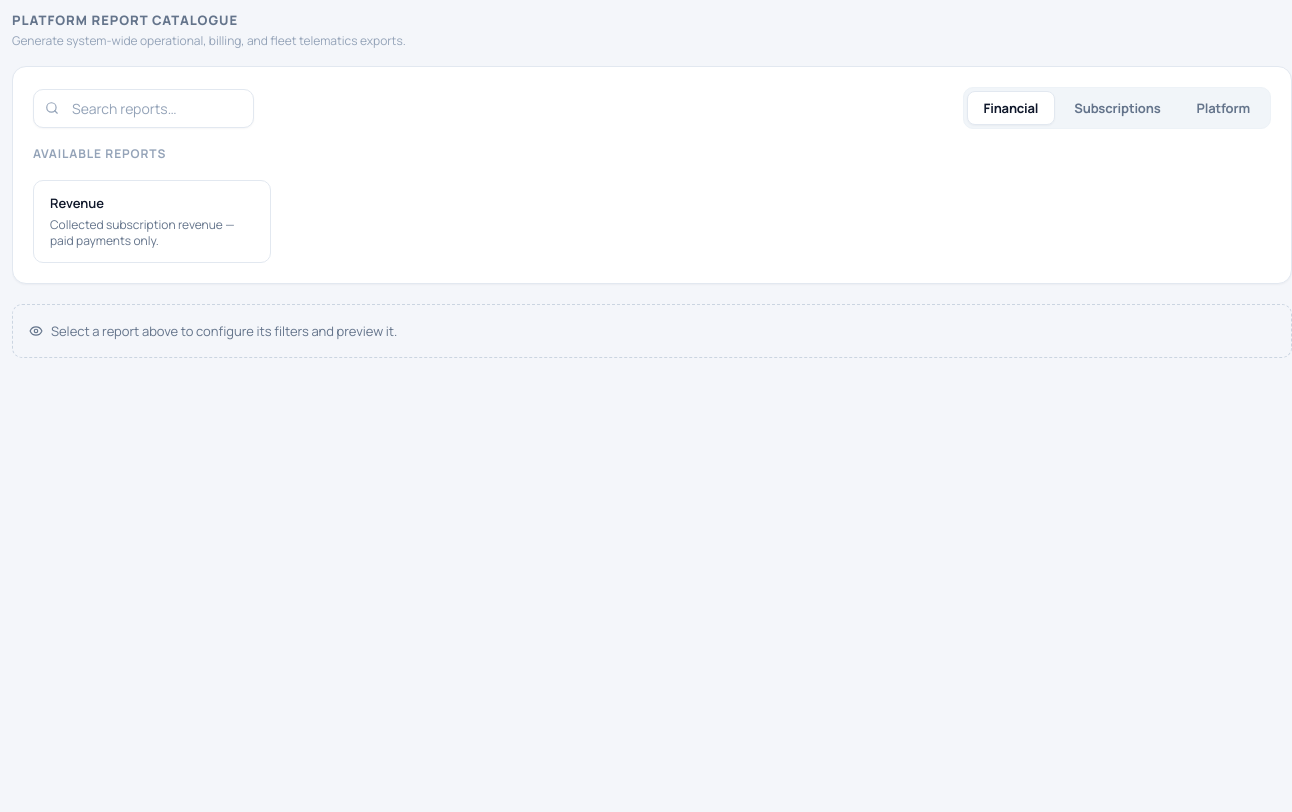
Test: ReportsPage — Platform Report Center › shows no filters until a report is selected
Expected: the field labelled "Date range" is not shown
Click the text "Revenue" at (77, 203), box [50,193,104,213]
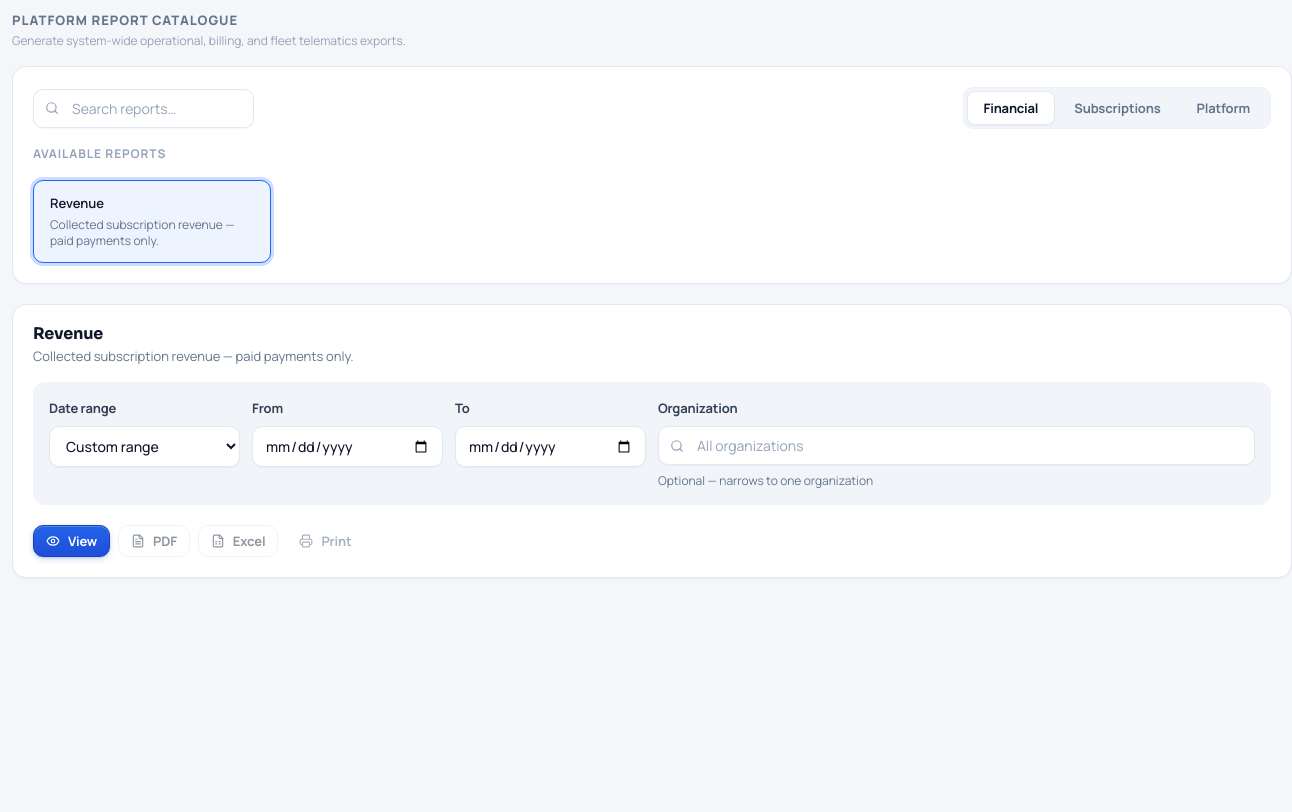
Expected: the dropdown labelled "Date range" is shown, [49,426,240,467]
